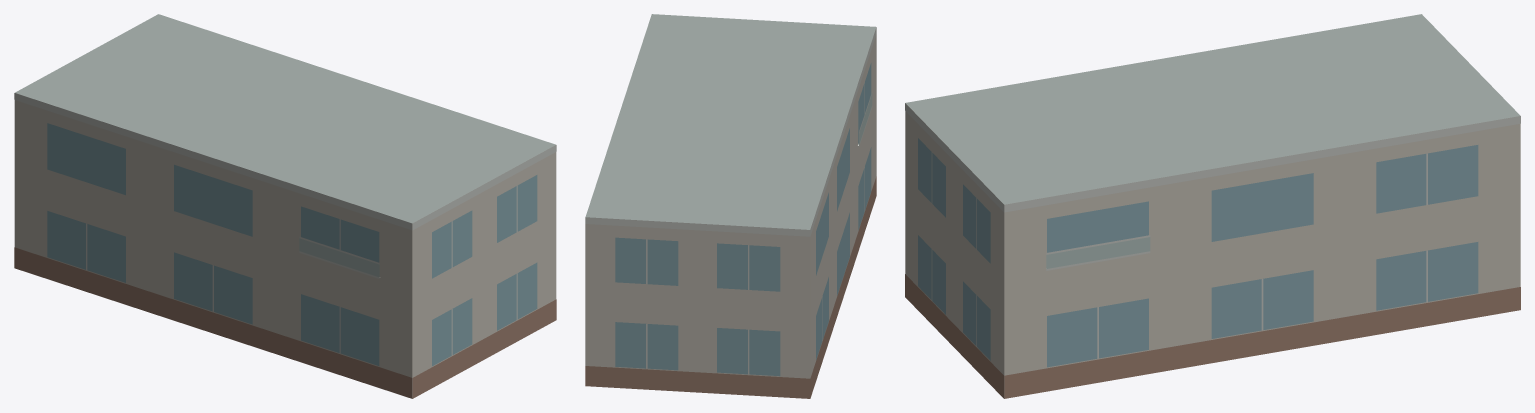
Rendered from survey-upis-32698453.glb.
3 views of the same model, side by side, from view 1: azimuth 30°, elevation 25°; view 2: azimuth 150°, elevation 25°; view 3: azimuth 270°, elevation 25° (orthographic). The views are drawn at different scales.
Visible parts, largest first — view 1: survey-upis-32698453.tmp; view 2: survey-upis-32698453.tmp; view 3: survey-upis-32698453.tmp.
Boxes of the visible parts, x1,y1,x2,y2 form: survey-upis-32698453.tmp: (14,14,556,398); survey-upis-32698453.tmp: (585,14,876,398); survey-upis-32698453.tmp: (905,14,1520,398).
Size of the model in its own units: 12.87 by 6.1 by 17.54.
